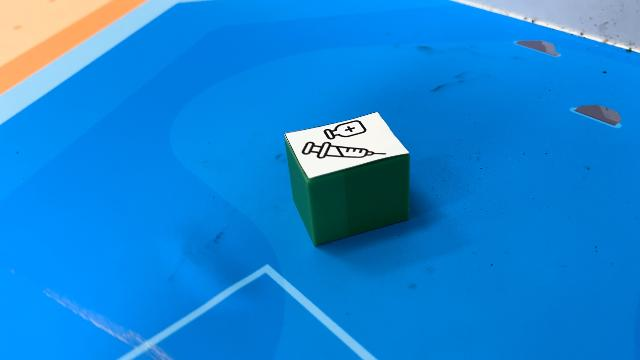syringe: (286, 112, 412, 250)
